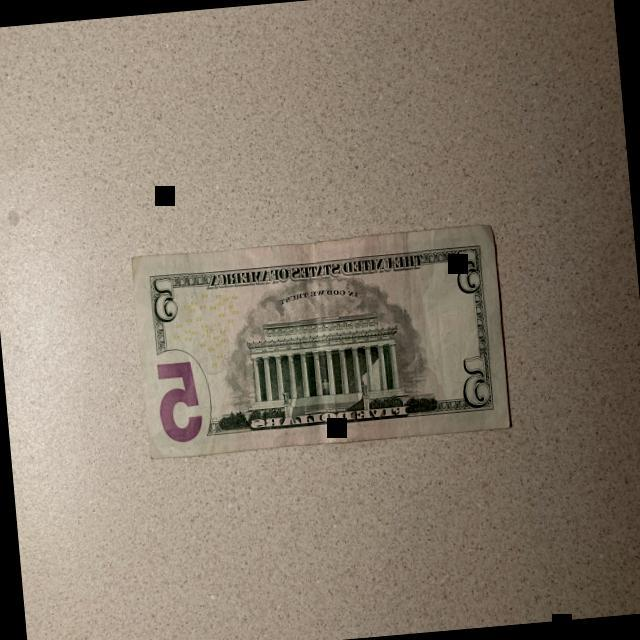five: (129, 224, 512, 461)
